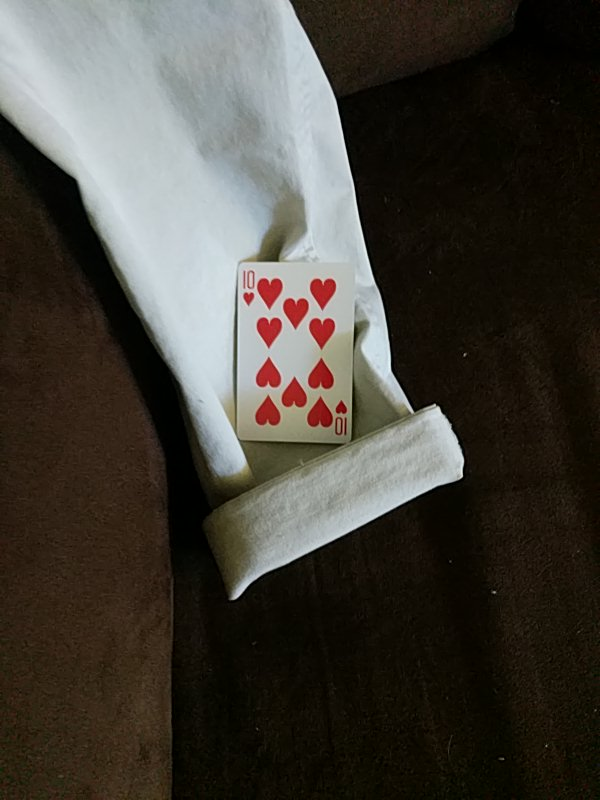Hearts: (234, 260, 354, 445)
